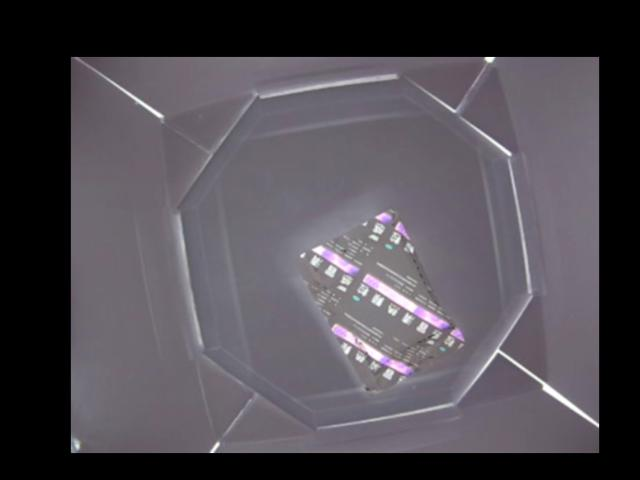Medicine: (299, 208, 467, 395)
